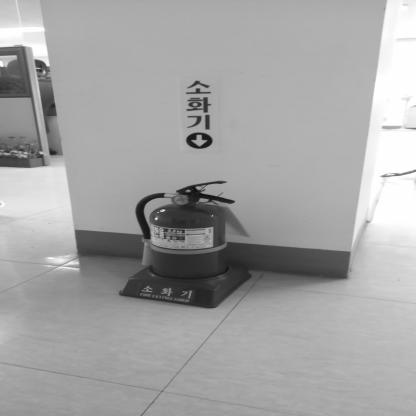FE: (123, 180, 255, 308)
